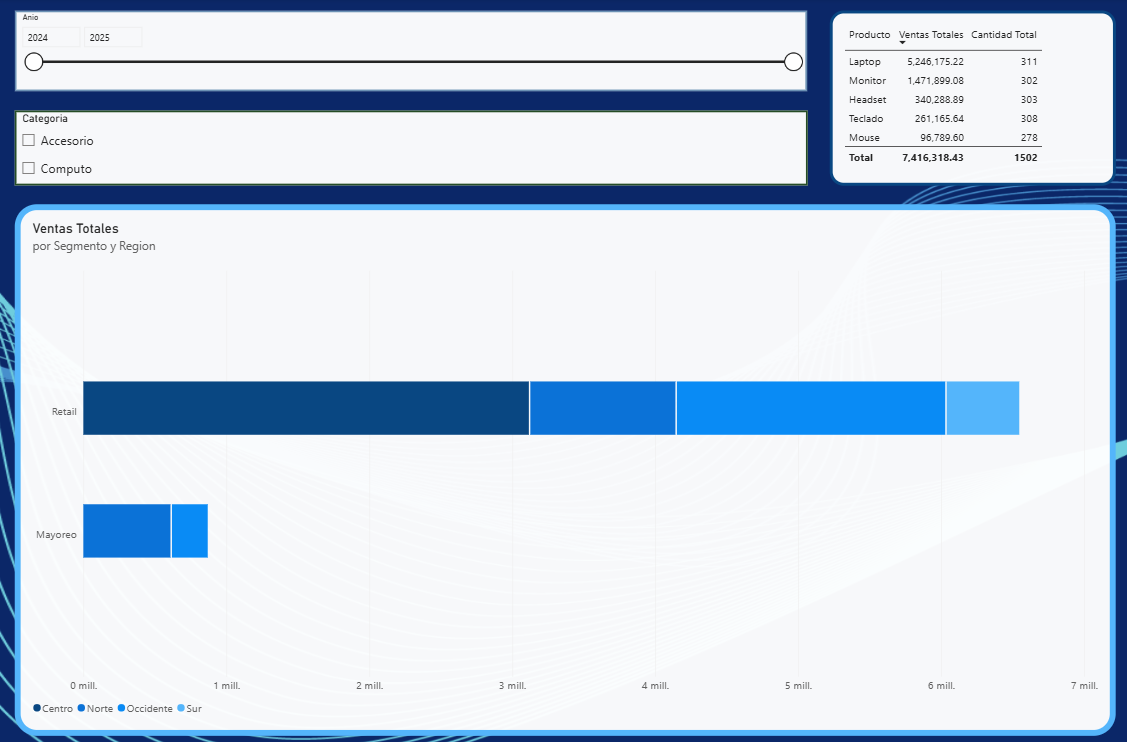

What the dashboard file says about the page in this screenshot:
{"tool":"powerbi","page":{"name":"Desglose Comercial","canvas":[1920,1080],"ordinal":1},"visuals":[{"type":"barChart","fields":{"Category":["dim_cliente.Segmento"],"Series":["dim_cliente.Region"],"Y":["hechos_ventas.Ventas Totales"]},"box":[255.8,307,1493,720.9],"z":0},{"type":"tableEx","fields":{"Values":["dim_producto.Producto","hechos_ventas.Ventas Totales","hechos_ventas.Cantidad Total"]},"box":[1360.5,44.2,388.4,237.2],"z":1000},{"type":"slicer","fields":{"Values":["dim_producto.Categoria"]},"box":[255.7,179.8,1075,101.8],"z":2000},{"type":"slicer","fields":{"Values":["dim_fecha.Anio"]},"box":[255.8,44.2,1074.4,109.3],"z":3000}]}

Visuals, with their boxes on the page's 1920x1080 design canvas (x1, y1, x2, y2). These are canvas units, not pixel positions in the 1127x742 screenshot, which may show the page scaled, cropped or inside an application window:
barChart - dim_cliente.Segmento x dim_cliente.Region: 256,307,1749,1028
tableEx - dim_producto.Producto x hechos_ventas.Ventas Totales: 1360,44,1749,281
slicer - dim_producto.Categoria: 256,180,1331,282
slicer - dim_fecha.Anio: 256,44,1330,154
